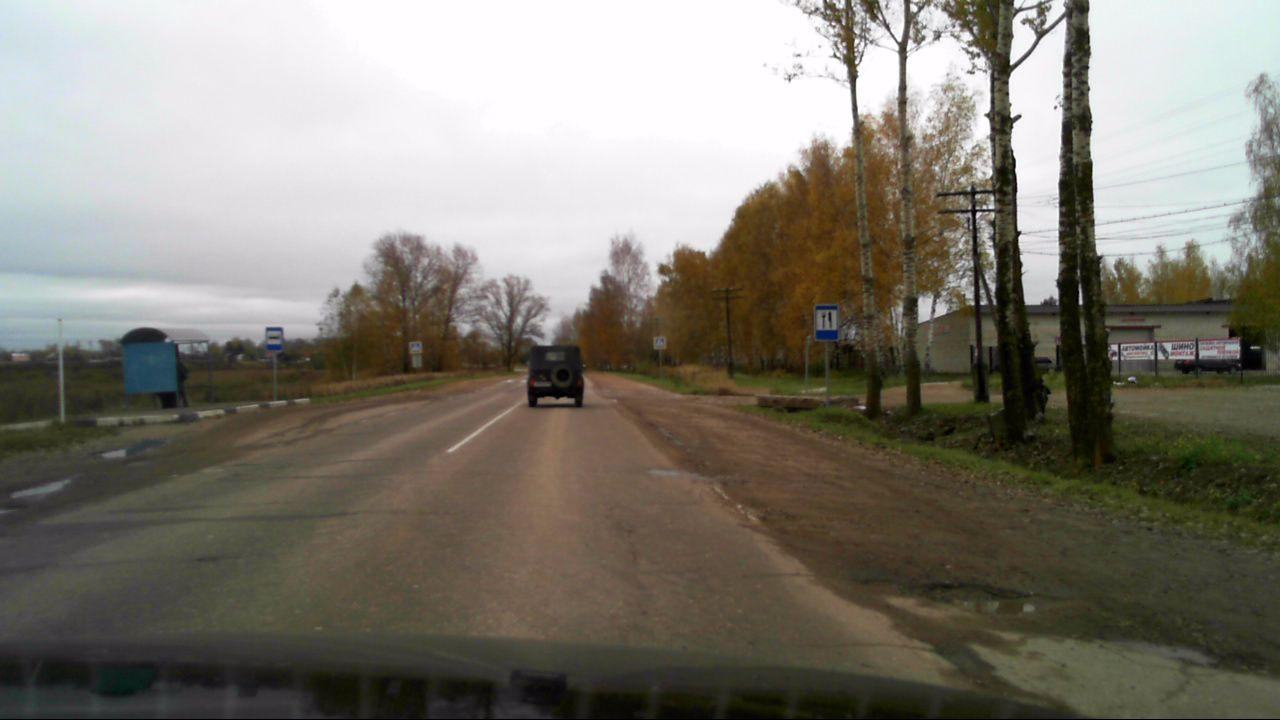5_16: (264, 326, 285, 354)
5_19_1: (654, 336, 665, 349)
5_19_2: (410, 342, 421, 354)
7_7: (813, 303, 838, 339)
